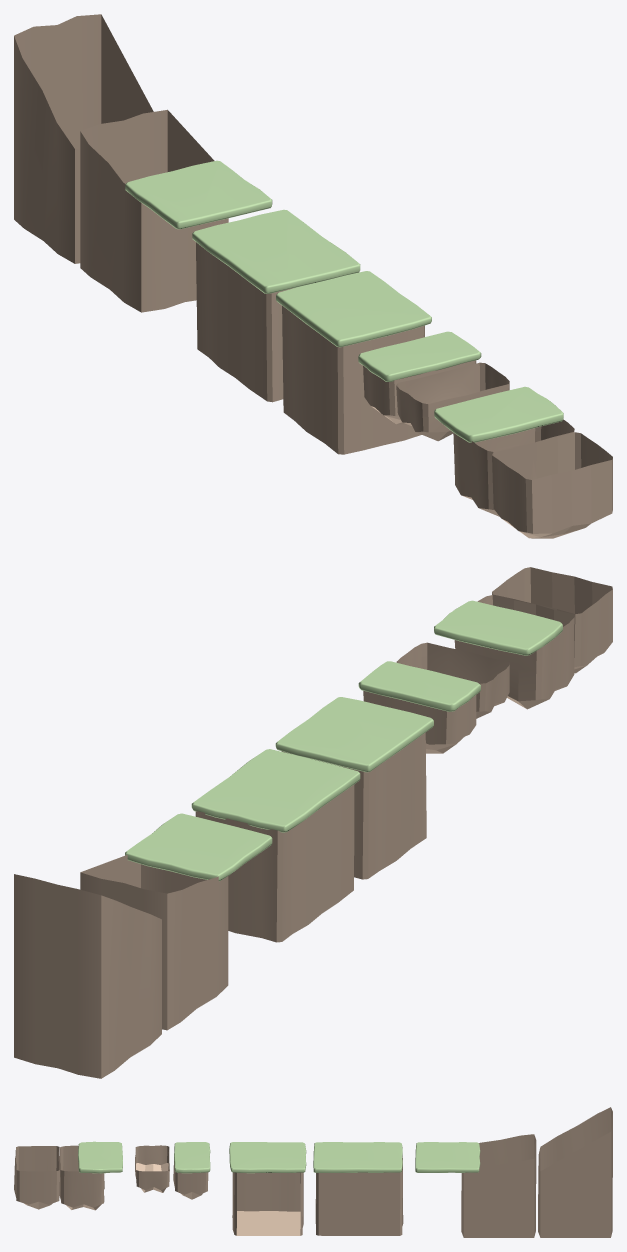
The model's file is Ground and Grass.fbx.
3 views of the same model, one above another, from view 1: azimuth 30°, elevation 25°; view 2: azimuth 150°, elevation 25°; view 3: azimuth 270°, elevation 25° (orthographic). The views are drawn at different scales.
Visible parts, largest first — view 1: Ground_more_diagonal, Ground_diagonal, Ground_Small, Ground_Hanging_Semi_Large, Ground_Large, Green_Large, Green_Semi_Large, Green_Square, Ground_Hanging_Small, Green_Upper_Small, Ground_Hanging_Large, Green_Small (+1 smaller); view 2: Ground_more_diagonal, Ground_Large, Ground_diagonal, Green_Large, Ground_Small, Green_Semi_Large, Green_Square, Ground_Hanging_Semi_Large, Ground_Hanging_Large, Green_Upper_Small, Green_Small, Ground_Hanging_Small (+1 smaller); view 3: Ground_more_diagonal, Ground_diagonal, Ground_Large, Ground_Small, Green_Large, Ground_Hanging_Semi_Large, Green_Semi_Large, Ground_Hanging_Large, Green_Square, Ground_Hanging_Small, Green_Upper_Small, Green_Small (+1 smaller).
Part boxes in pixels (x1,y1,x2,y2): Ground_more_diagonal: (14, 14, 153, 263); Ground_diagonal: (80, 109, 228, 312); Ground_Small: (282, 305, 424, 454); Ground_Hanging_Semi_Large: (492, 432, 612, 538); Ground_Large: (196, 242, 292, 402); Green_Large: (192, 209, 360, 293); Green_Semi_Large: (276, 271, 431, 347); Green_Square: (125, 160, 272, 229); Ground_Hanging_Small: (396, 362, 509, 441); Green_Upper_Small: (434, 386, 563, 442); Ground_Hanging_Large: (453, 419, 574, 516); Green_Small: (358, 331, 481, 381); Ground_more_diagonal: (14, 874, 161, 1078); Ground_Large: (195, 785, 354, 942); Ground_diagonal: (80, 855, 228, 1030); Green_Large: (191, 749, 360, 832); Ground_Small: (281, 732, 426, 879); Green_Semi_Large: (275, 697, 433, 772); Green_Square: (125, 813, 272, 881); Ground_Hanging_Semi_Large: (492, 567, 612, 673); Ground_Hanging_Large: (454, 595, 574, 709); Green_Upper_Small: (434, 600, 562, 655); Green_Small: (358, 661, 480, 711); Ground_Hanging_Small: (396, 642, 509, 718); Ground_more_diagonal: (538, 1107, 612, 1237); Ground_diagonal: (461, 1134, 536, 1237); Ground_Large: (315, 1147, 403, 1235); Ground_Small: (232, 1172, 303, 1235); Green_Large: (313, 1142, 402, 1172); Ground_Hanging_Semi_Large: (14, 1146, 59, 1209); Green_Semi_Large: (229, 1142, 306, 1173); Ground_Hanging_Large: (59, 1145, 104, 1210); Green_Square: (415, 1142, 480, 1172); Ground_Hanging_Small: (135, 1145, 169, 1192); Green_Upper_Small: (78, 1141, 122, 1173); Green_Small: (174, 1142, 210, 1173).
Bounding box in the file's own units: 211 × 379 × 1911.
